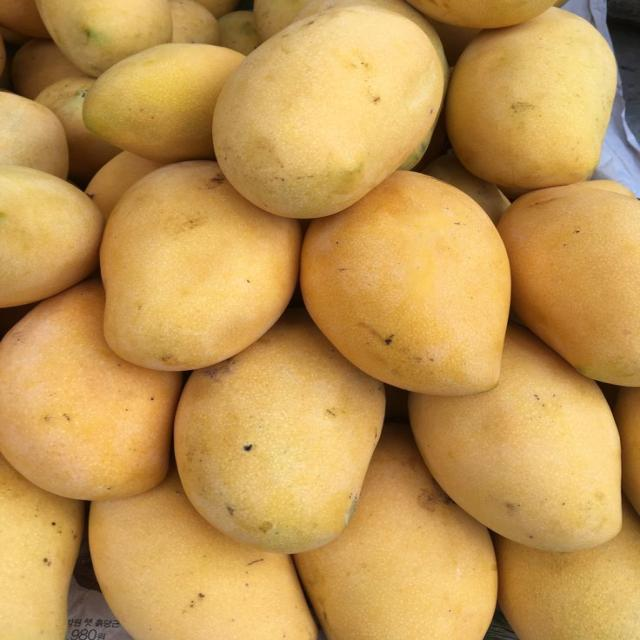mango: (175, 309, 384, 552), (213, 6, 443, 217), (410, 324, 622, 551), (301, 172, 510, 395), (294, 423, 497, 639), (100, 160, 301, 371), (0, 281, 181, 500), (89, 466, 316, 639), (445, 7, 616, 189), (497, 183, 639, 386), (493, 498, 639, 639), (83, 43, 243, 162), (0, 455, 83, 639), (0, 165, 103, 307), (35, 0, 171, 76), (36, 76, 121, 181), (0, 91, 68, 179), (409, 0, 555, 28), (169, 0, 219, 44), (254, 0, 306, 40), (219, 11, 259, 54)
